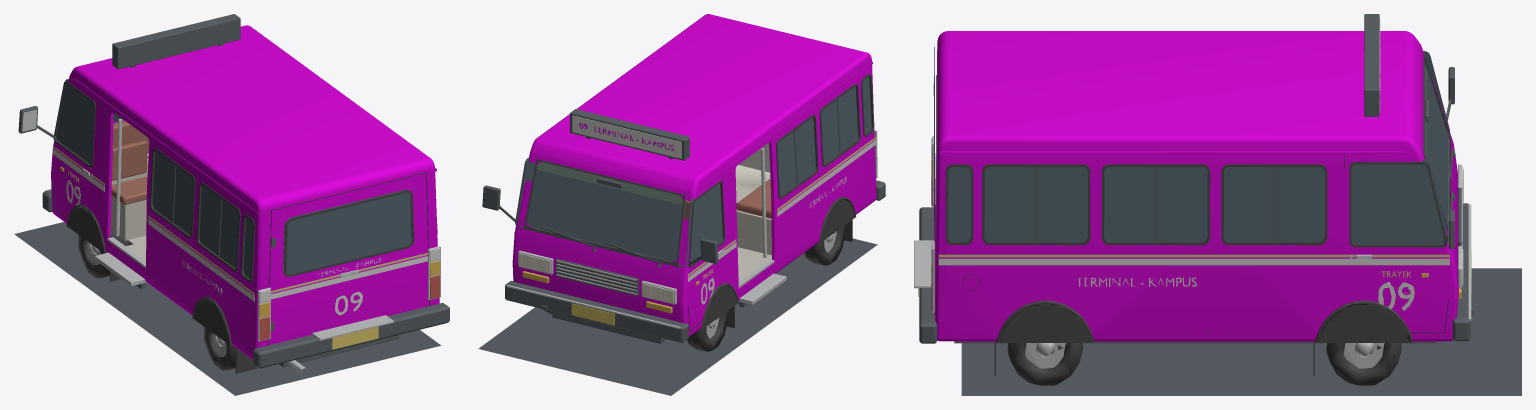
File: angkot_09.glb
3 renders of one model, left to right at view 1: azimuth 30°, elevation 25°; view 2: azimuth 150°, elevation 25°; view 3: azimuth 270°, elevation 25°, orthographic. The views are drawn at different scales.
Visible parts, largest first — view 1: main, rem; view 2: main; view 3: main.
Part boxes in pixels (x1,y1,x2,y2): main: [14, 14, 449, 395]; rem: [259, 275, 440, 340]; main: [478, 14, 885, 395]; main: [914, 14, 1521, 395].
Size of the model in its own units: 2.39 by 2.02 by 3.95.
